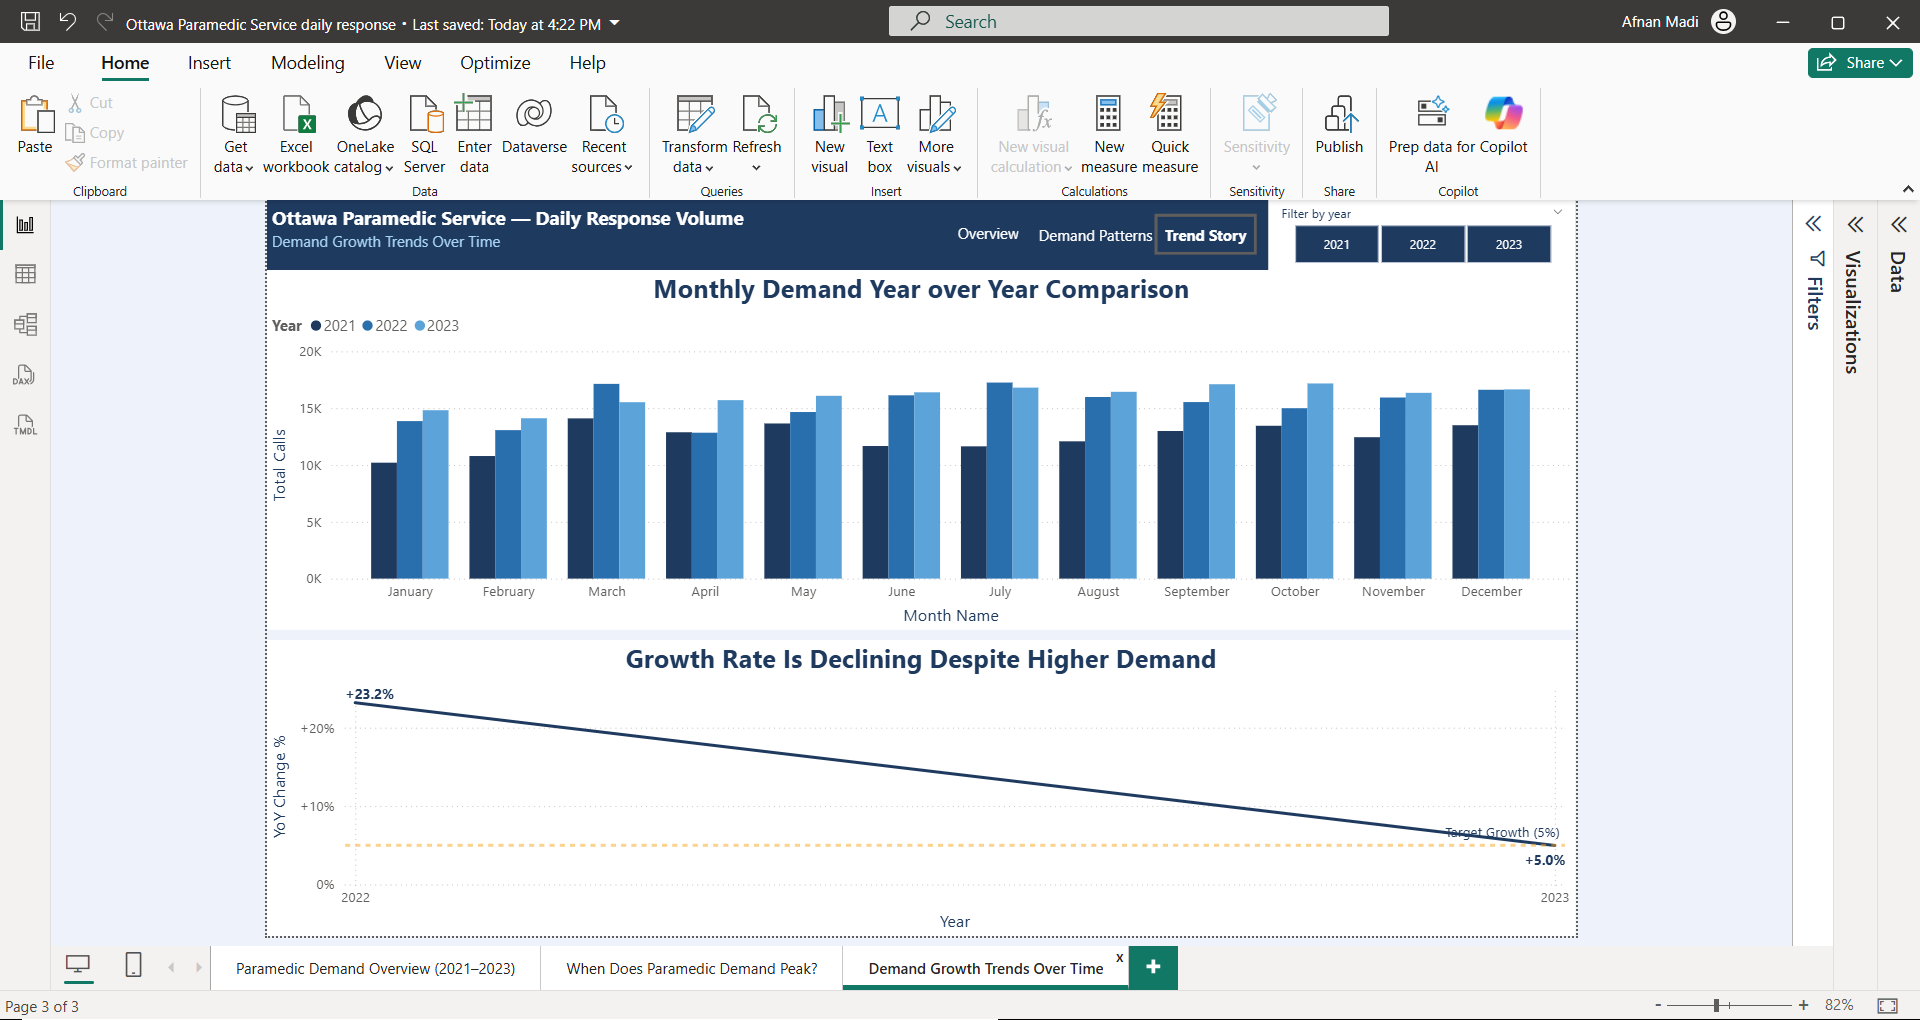

This screenshot's page, from the dashboard's own definition file:
{"tool":"powerbi","page":{"name":"Demand Growth Trends Over Time","canvas":[1280,720],"ordinal":2},"visuals":[{"type":"textbox","box":[0,0,1280.3,68.5],"z":0},{"type":"slicer","fields":{"Values":["DateDim.Date Hierarchy.Year"]},"box":[979.5,0,300.8,68.5],"z":1000},{"type":"clusteredColumnChart","title":"Monthly Demand Year over Year Comparison","fields":{"Category":["DateDim.Month Name"],"Y":["Ottawa_Paramedic_Service_daily_response_volume.Total Calls"],"Series":["DateDim.Year"]},"box":[0,68.5,1280.3,352.2],"z":2000},{"type":"lineChart","title":"Growth Rate Is Declining Despite Higher Demand","fields":{"Category":["DateDim.Year"],"Y":["Ottawa_Paramedic_Service_daily_response_volume.YoY Change %"]},"box":[0,430,1280,290],"z":3000},{"type":"actionButton","box":[666.2,12,78.3,40.4],"z":3001},{"type":"actionButton","box":[744.5,13.2,132.1,40.4],"z":3002},{"type":"actionButton","box":[868,13.2,100.3,40.4],"z":3003}]}

Visuals, with their boxes on the page's 1280x720 design canvas (x1, y1, x2, y2). These are canvas units, not pixel positions in the 1920x1020 screenshot, which may show the page scaled, cropped or inside an application window:
textbox: (0, 0, 1280, 68)
slicer - DateDim.Date Hierarchy.Year: (980, 0, 1280, 68)
"Monthly Demand Year over Year Comparison" clusteredColumnChart: (0, 68, 1280, 421)
"Growth Rate Is Declining Despite Higher Demand" lineChart: (0, 430, 1280, 720)
actionButton: (666, 12, 744, 52)
actionButton: (744, 13, 877, 54)
actionButton: (868, 13, 968, 54)
